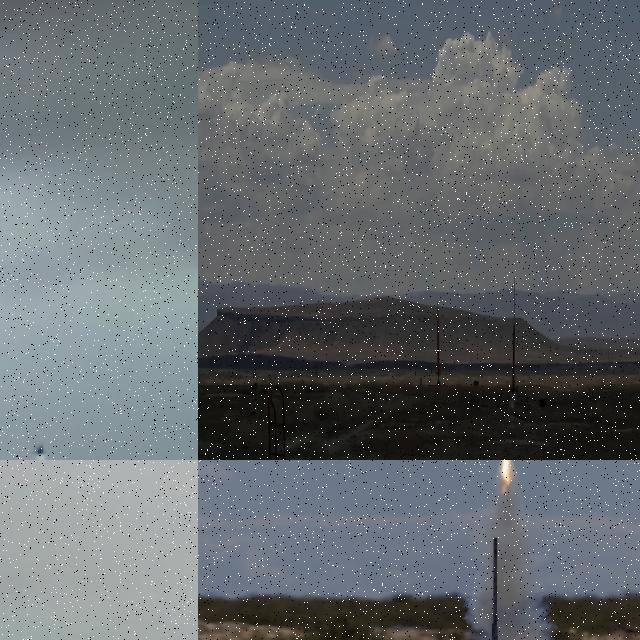Rocket: (24, 443, 52, 460), (436, 300, 442, 376), (510, 321, 517, 385)
